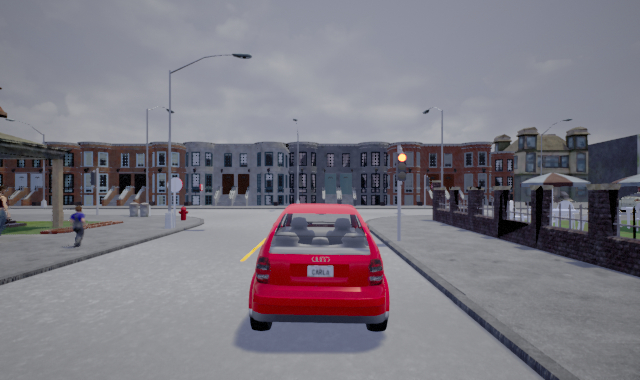pedestrian: (69, 201, 87, 248)
traffic_light: (396, 152, 407, 182)
vehicle: (247, 202, 390, 333), (618, 189, 640, 212)
